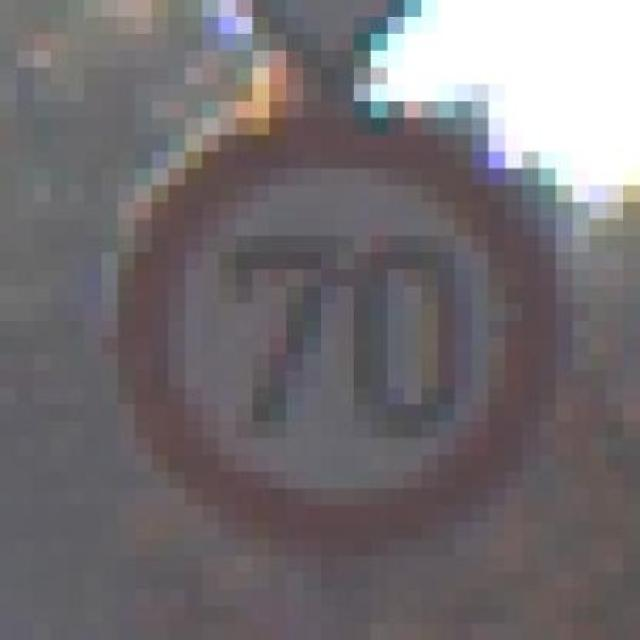forb_speed_over_70: (125, 110, 545, 538)
